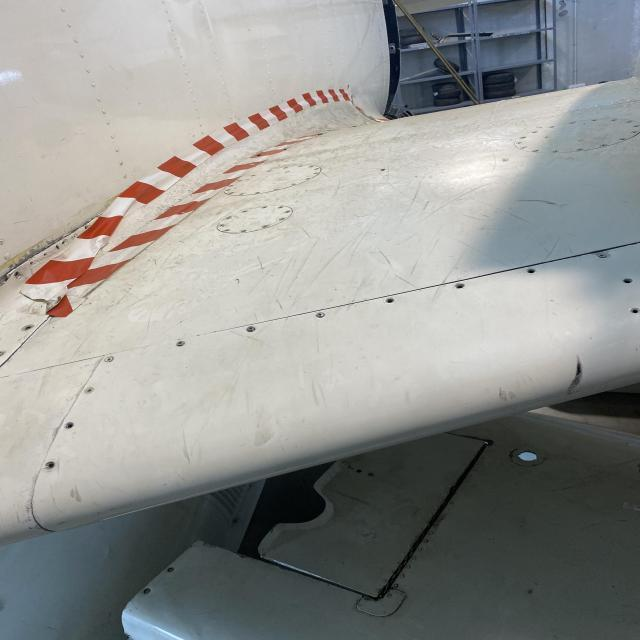Missing Fastener: (41, 460, 54, 470), (20, 324, 32, 330), (622, 277, 634, 283), (452, 282, 463, 288), (62, 422, 72, 428), (384, 296, 394, 302), (526, 267, 536, 273), (630, 307, 638, 313)
